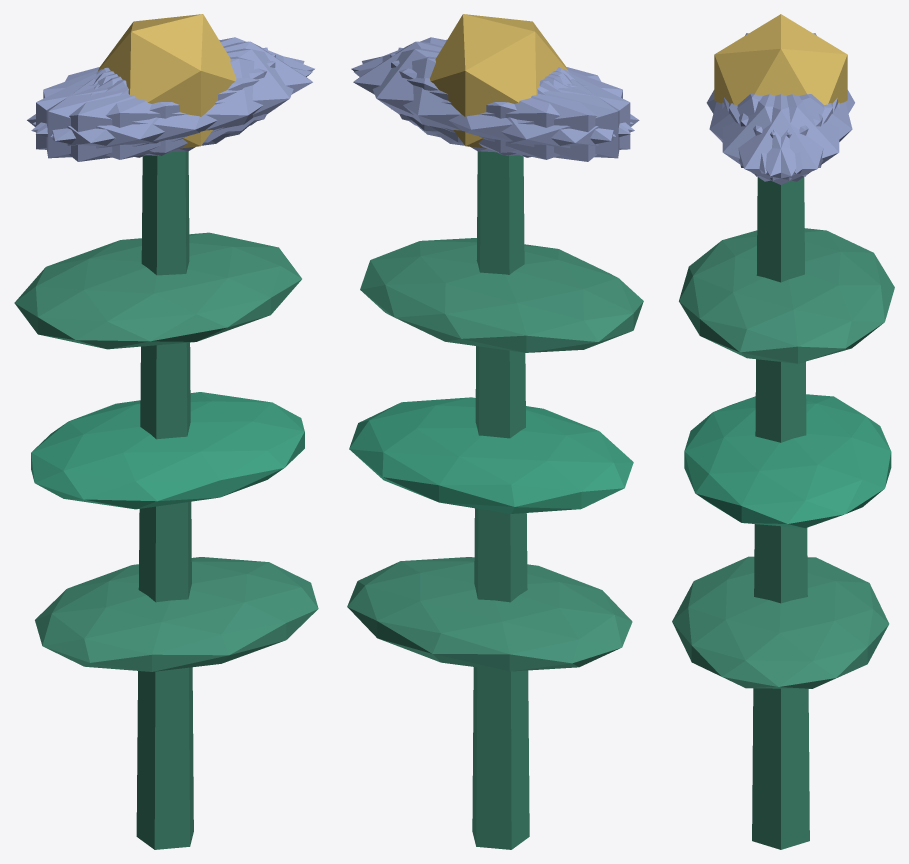
The model's file is muehlenbeckia-gracillima.glb.
The picture shows the model from 3 angles, left to right: view 1: azimuth 30°, elevation 25°; view 2: azimuth 150°, elevation 25°; view 3: azimuth 270°, elevation 25°; orthographic projection.
Visible parts, largest first — view 1: stem, leaf2, leaf0, leaf1, center, petal1, petal6, petal2, petal5, petal7, petal0, petal4 (+2 smaller); view 2: stem, leaf1, leaf2, leaf0, center, petal8, petal3, petal7, petal4, petal2, petal0, petal5 (+2 smaller); view 3: stem, leaf2, leaf0, leaf1, center, petal0, petal4, petal5, petal1, petal8.
Part boxes in pixels (<box>): stem: <box>136,151,193,849</box>; leaf2: <box>14,232,301,349</box>; leaf0: <box>35,557,318,671</box>; leaf1: <box>31,392,304,509</box>; center: <box>98,14,236,148</box>; petal1: <box>31,56,312,159</box>; petal6: <box>27,69,230,161</box>; petal2: <box>46,47,267,158</box>; petal5: <box>50,48,304,152</box>; petal7: <box>36,53,275,155</box>; petal0: <box>97,41,312,142</box>; petal4: <box>33,37,314,134</box>; stem: <box>472,151,529,849</box>; leaf1: <box>349,397,633,513</box>; leaf2: <box>360,238,643,352</box>; leaf0: <box>347,557,632,671</box>; center: <box>430,14,568,148</box>; petal8: <box>354,56,634,159</box>; petal3: <box>436,69,639,161</box>; petal7: <box>398,47,619,158</box>; petal4: <box>362,48,615,152</box>; petal2: <box>390,53,630,155</box>; petal0: <box>353,41,568,142</box>; petal5: <box>351,37,633,134</box>; stem: <box>752,177,809,849</box>; leaf2: <box>679,228,894,363</box>; leaf0: <box>672,556,889,688</box>; leaf1: <box>684,394,891,528</box>; center: <box>714,14,847,104</box>; petal0: <box>724,94,837,184</box>; petal4: <box>729,94,839,181</box>; petal5: <box>722,94,832,181</box>; petal1: <box>709,94,822,173</box>; petal8: <box>739,94,852,173</box>.
Size of the model in its own units: 0.1452 by 0.4089 by 0.1026.
